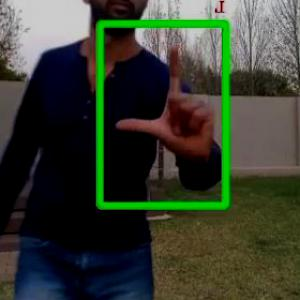land_hand: (106, 33, 215, 169)
